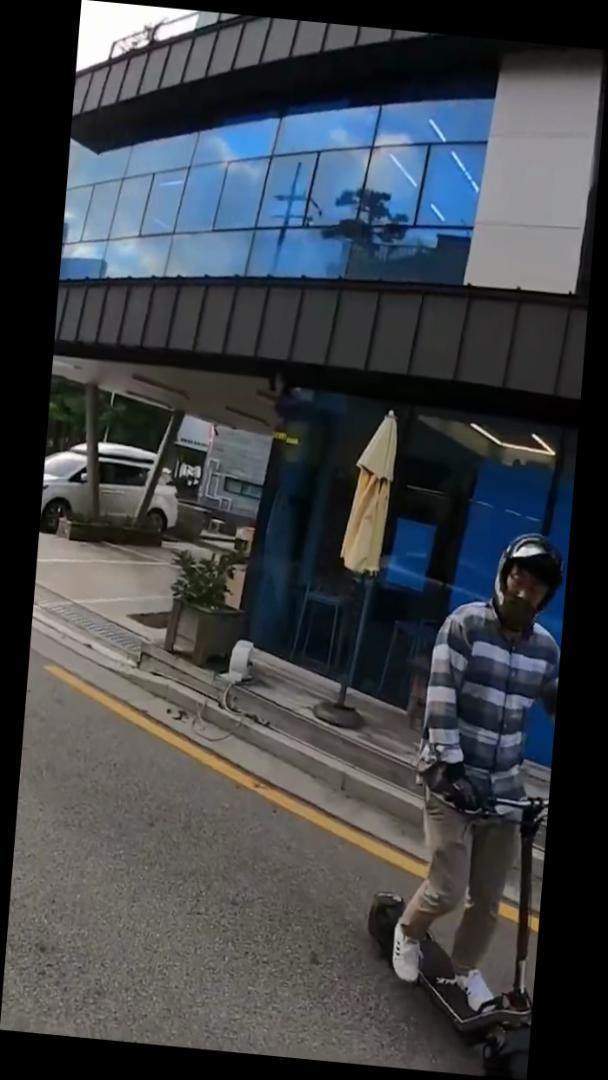helmet: (353, 514, 568, 1080)
